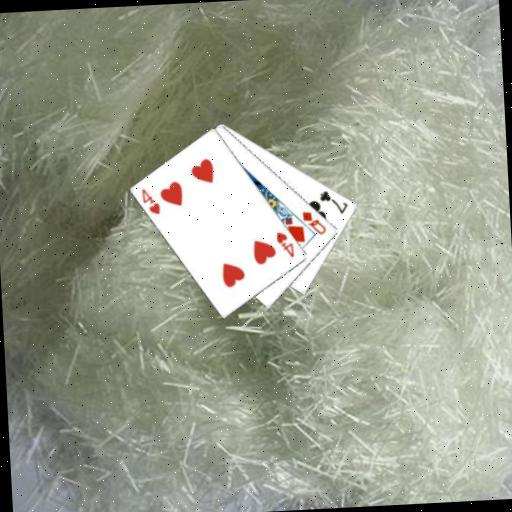4H: (138, 185, 162, 217), (273, 228, 296, 260)
7C: (317, 187, 350, 217)
QD: (300, 208, 329, 238)
